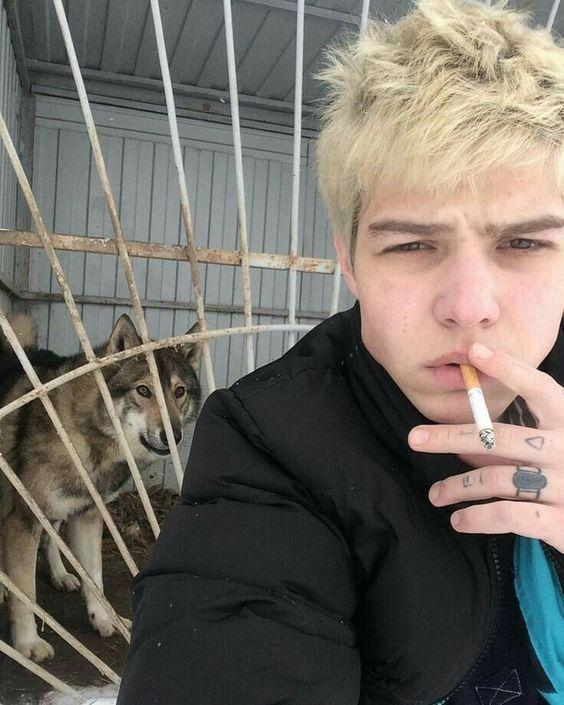cigarette: (459, 363, 497, 451)
